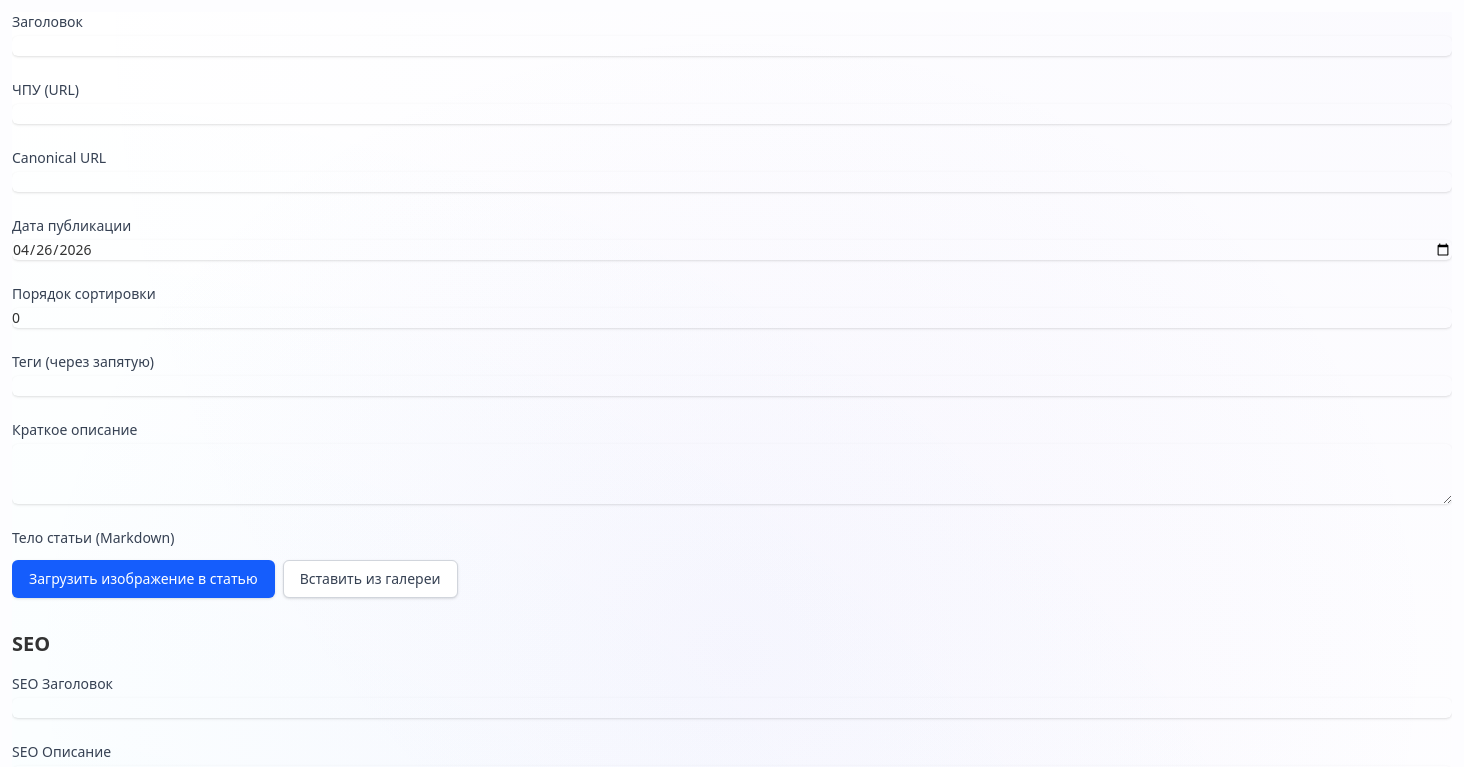
Test case: BlogForm › should automatically generate a slug when typing a title
In the field labelled "Заголовок": (732, 46) 12,36 -> 1452,56, type "Новая Интересная Статья"
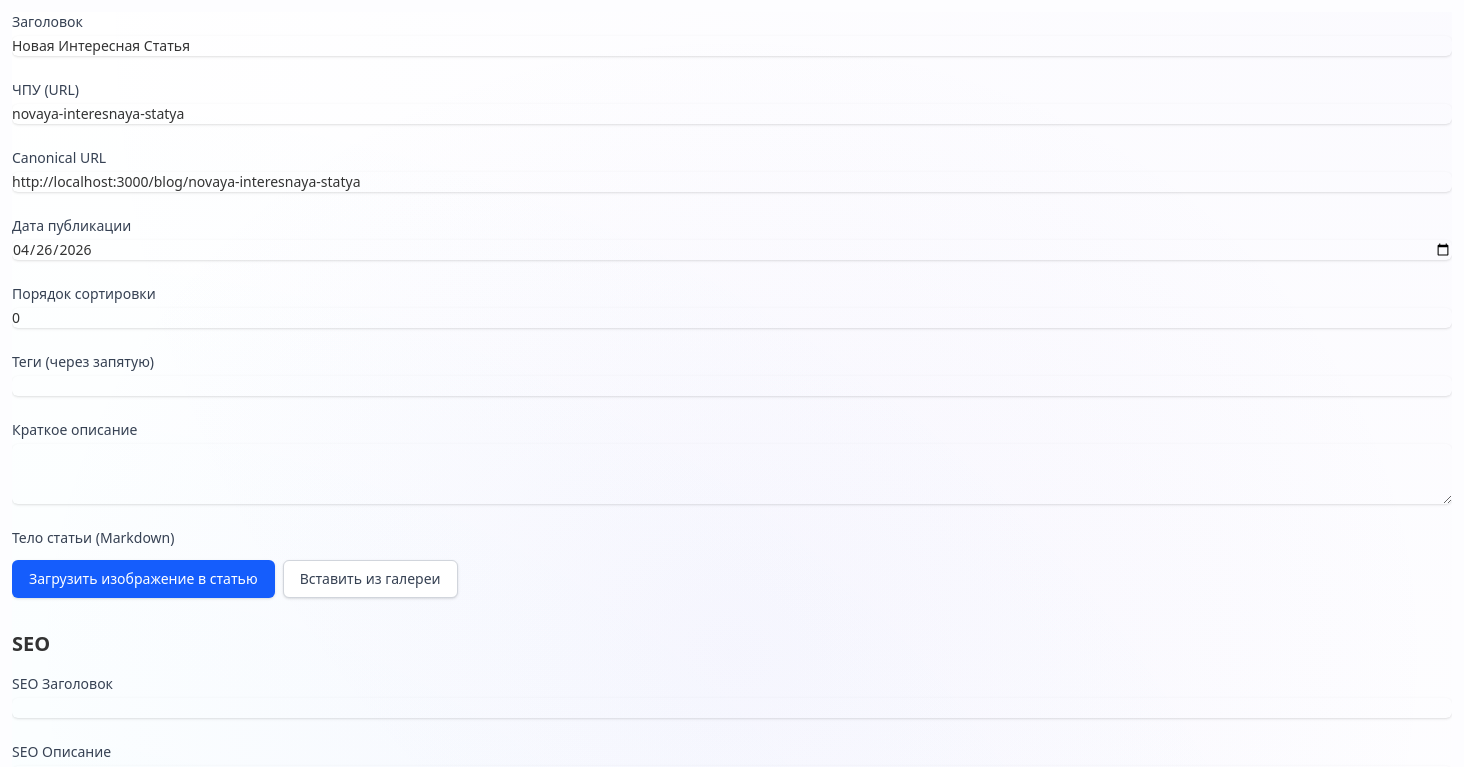
Expected: the field labelled "ЧПУ (URL)" holds "novaya-interesnaya-statya", 12,104 -> 1452,124
